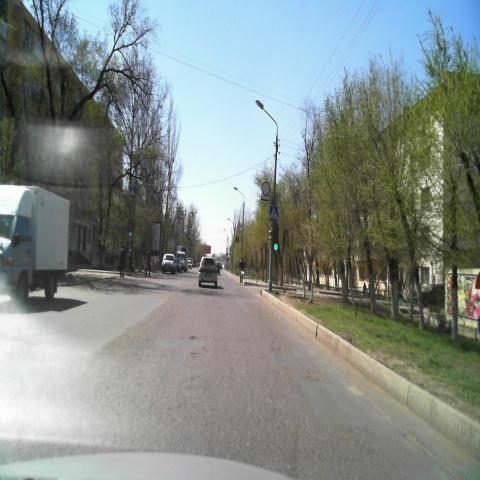3_2: (261, 182, 270, 196)
